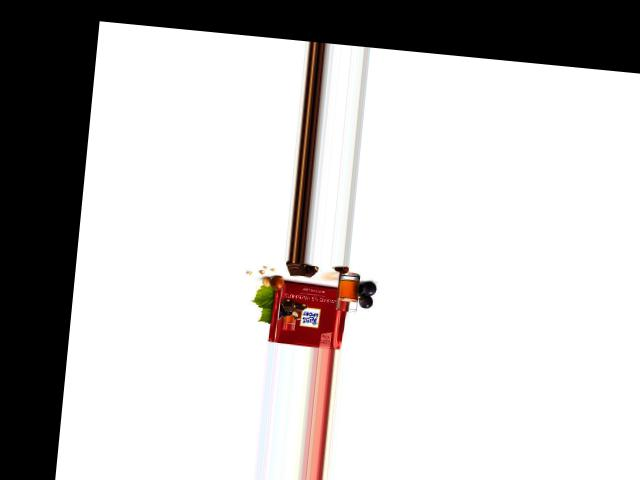chocolate: (266, 279, 347, 348)
